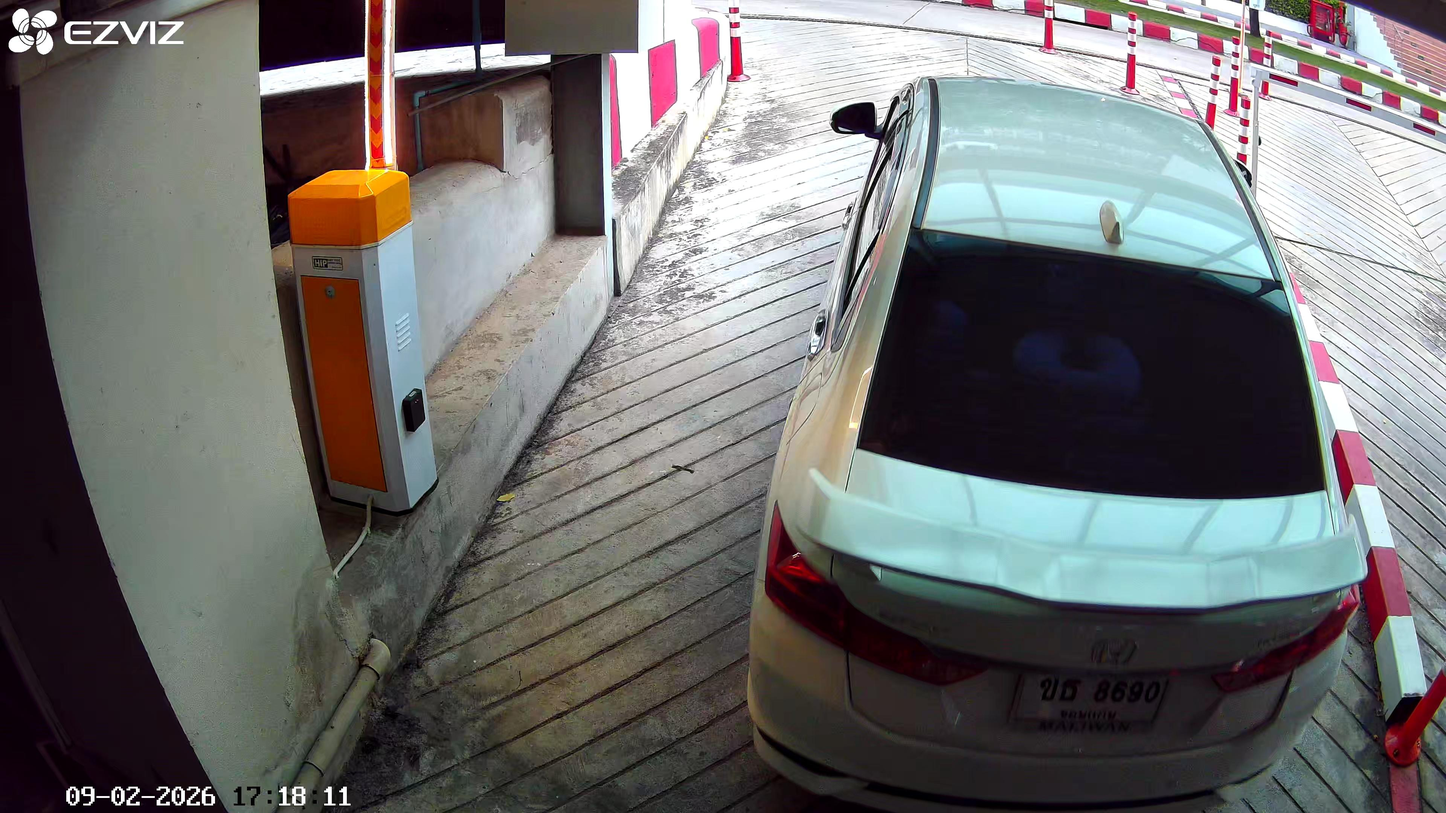car: (745, 73, 1369, 813)
license-plate: (1005, 660, 1177, 738)
